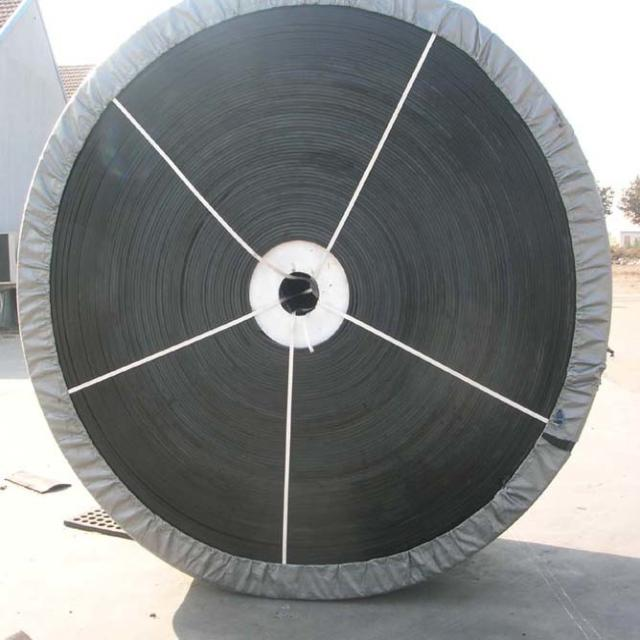conveyor: (36, 1, 602, 549)
